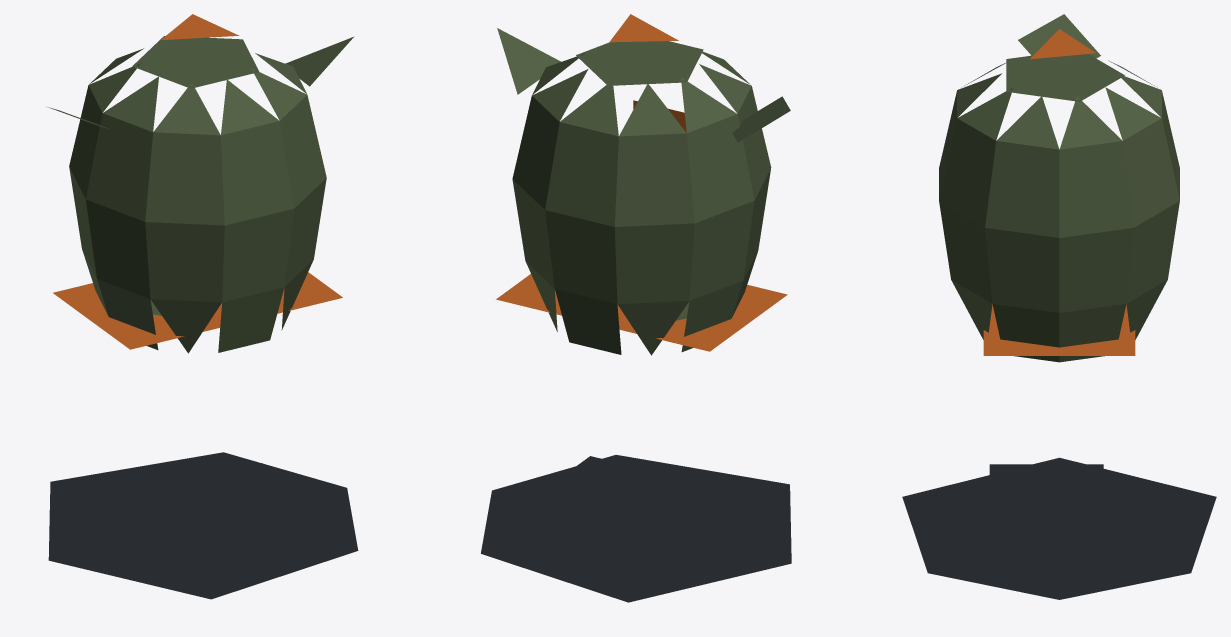
The model's file is flightsuit.lod.glb.
The picture shows the model from 3 angles, left to right: view 1: azimuth 30°, elevation 25°; view 2: azimuth 150°, elevation 25°; view 3: azimuth 270°, elevation 25°; orthographic projection. The views are drawn at different scales.
Parts seen in each view (by area): view 1: m; view 2: m; view 3: m.
Boxes of the visible parts, left/top/right/bottom form: m: left=46, top=14, right=358, bottom=599; m: left=481, top=14, right=791, bottom=602; m: left=902, top=14, right=1216, bottom=599.
Bounding box in the file's own units: 0.3318 × 0.4248 × 0.2398.
